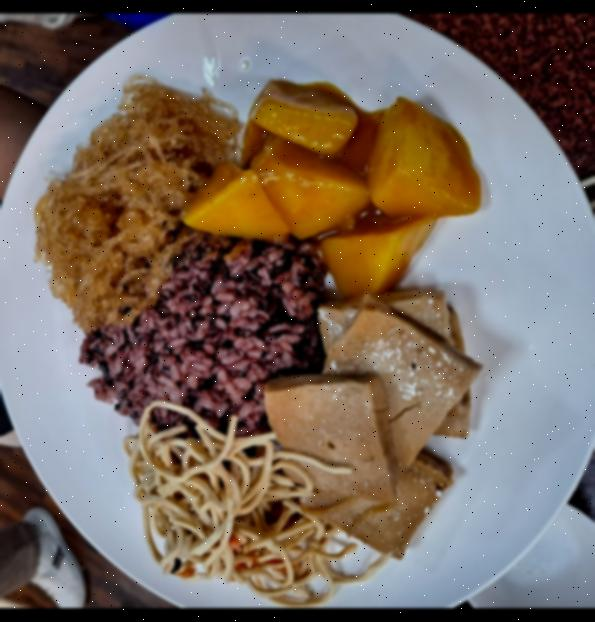big fried chicken leg: (0, 17, 593, 608)
braised fish: (98, 243, 315, 430)
braised fish fillet: (270, 281, 491, 541), (189, 82, 481, 272), (34, 85, 202, 310), (128, 410, 323, 598)
